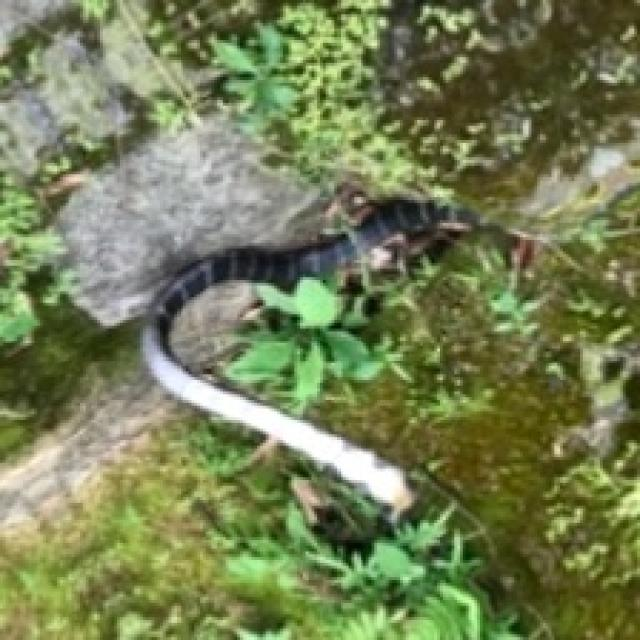king cobra: (143, 197, 474, 517), (143, 197, 460, 520), (551, 280, 637, 460), (166, 274, 294, 389)
